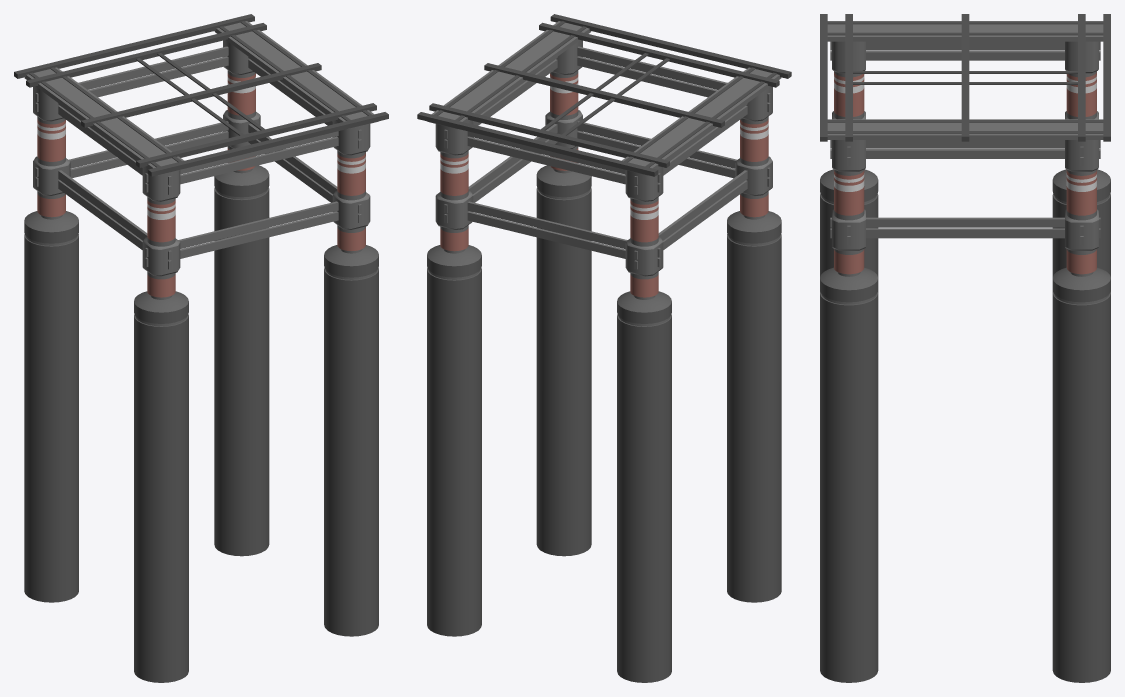
Rendered from MainFrame.fbx.
3 views of the same model, side by side, from view 1: azimuth 30°, elevation 25°; view 2: azimuth 150°, elevation 25°; view 3: azimuth 270°, elevation 25° (orthographic). The views are drawn at different scales.
Visible parts, largest first — view 1: Cylinder; view 2: Cylinder; view 3: Cylinder.
Boxes of the visible parts, left/top/right/bottom form: Cylinder: left=14, top=14, right=388, bottom=682; Cylinder: left=417, top=14, right=791, bottom=682; Cylinder: left=820, top=14, right=1110, bottom=682.
Bounding box in the file's own units: 2000 × 4141 × 2000.
